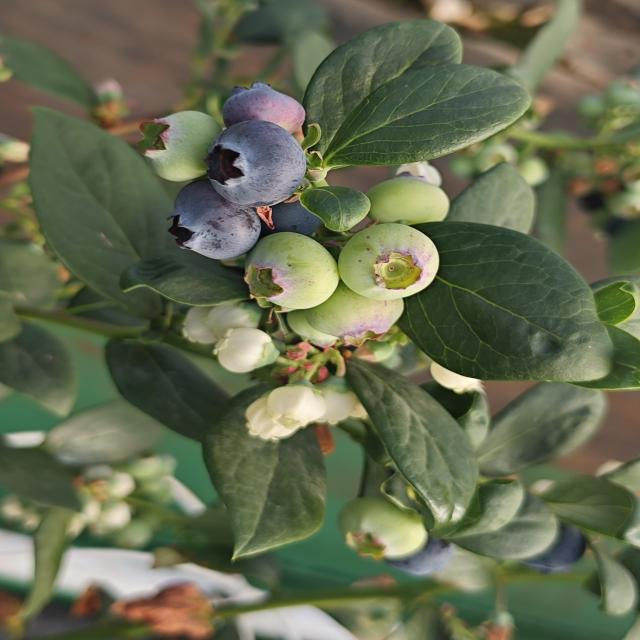ripe: (201, 118, 310, 210), (164, 178, 264, 262), (219, 80, 308, 138), (511, 514, 591, 574), (256, 184, 336, 238), (378, 530, 458, 579)
